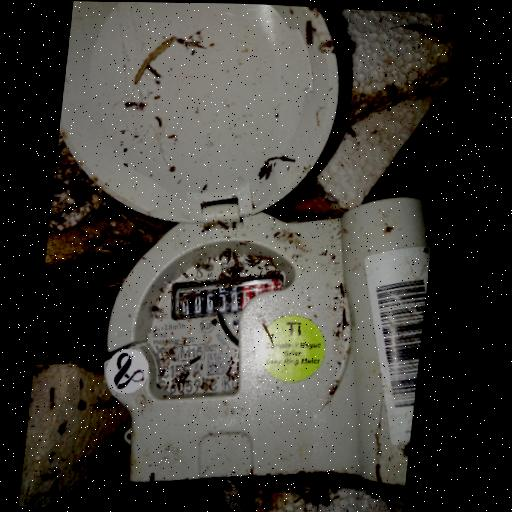0: (175, 290, 195, 317), (189, 289, 209, 315)
3: (214, 286, 233, 312)
6: (202, 287, 221, 314), (238, 283, 258, 308)
9: (225, 285, 244, 311)
border_water_meter_number: (165, 266, 289, 325)
